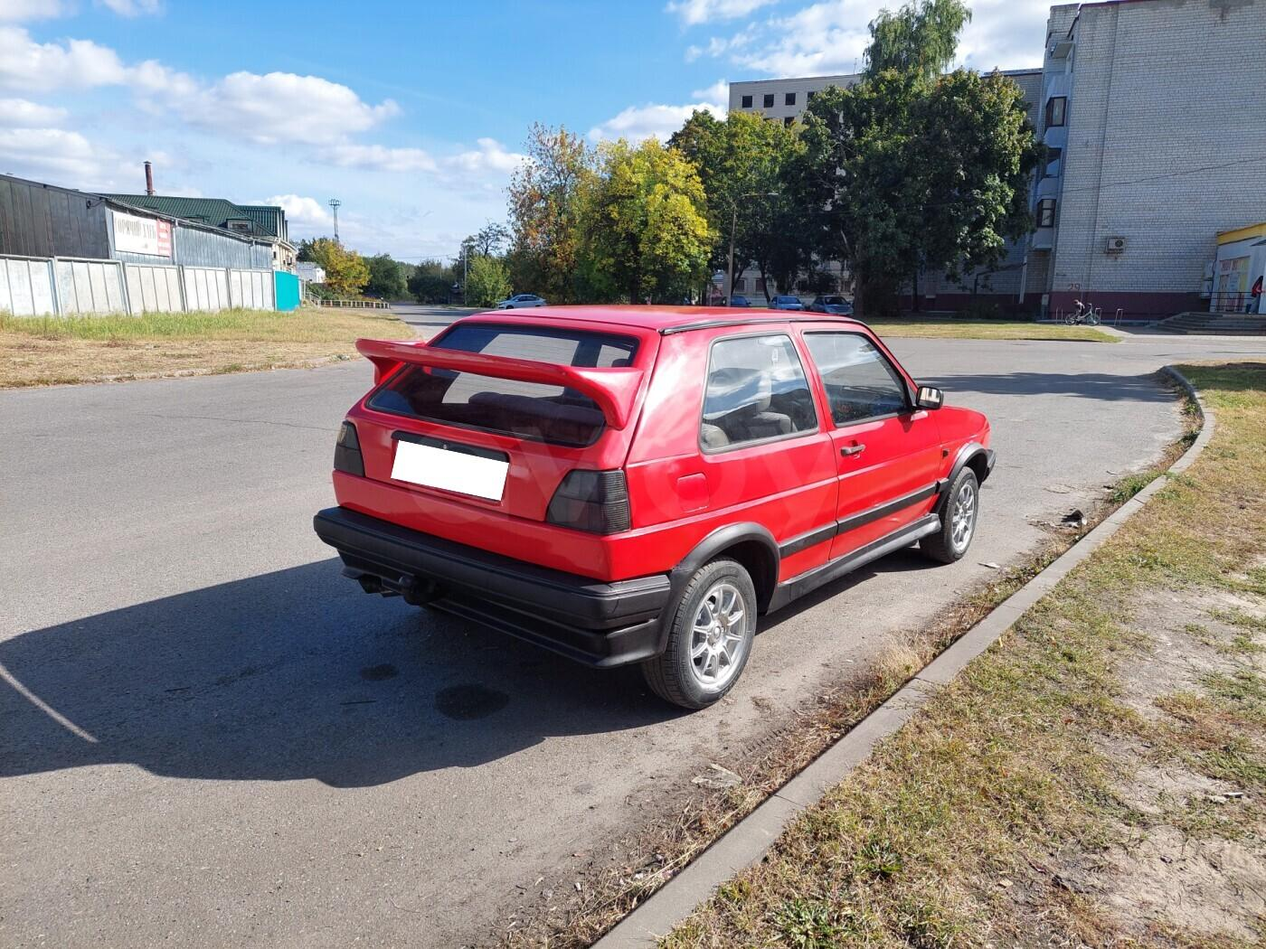Golf_1983-1992: (309, 297, 996, 730)
